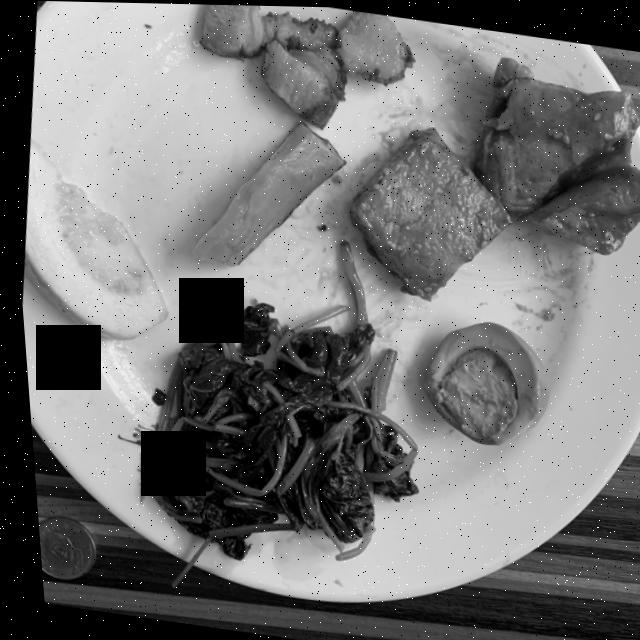coin: (31, 516, 87, 579)
creamy tofu: (347, 54, 640, 297)
grilled pork: (199, 4, 413, 126)
guava -sliced-: (19, 136, 163, 338)
pumpkin: (189, 120, 342, 264)
soy egg: (418, 319, 543, 442)
sweet potato leaves: (139, 240, 410, 566)
